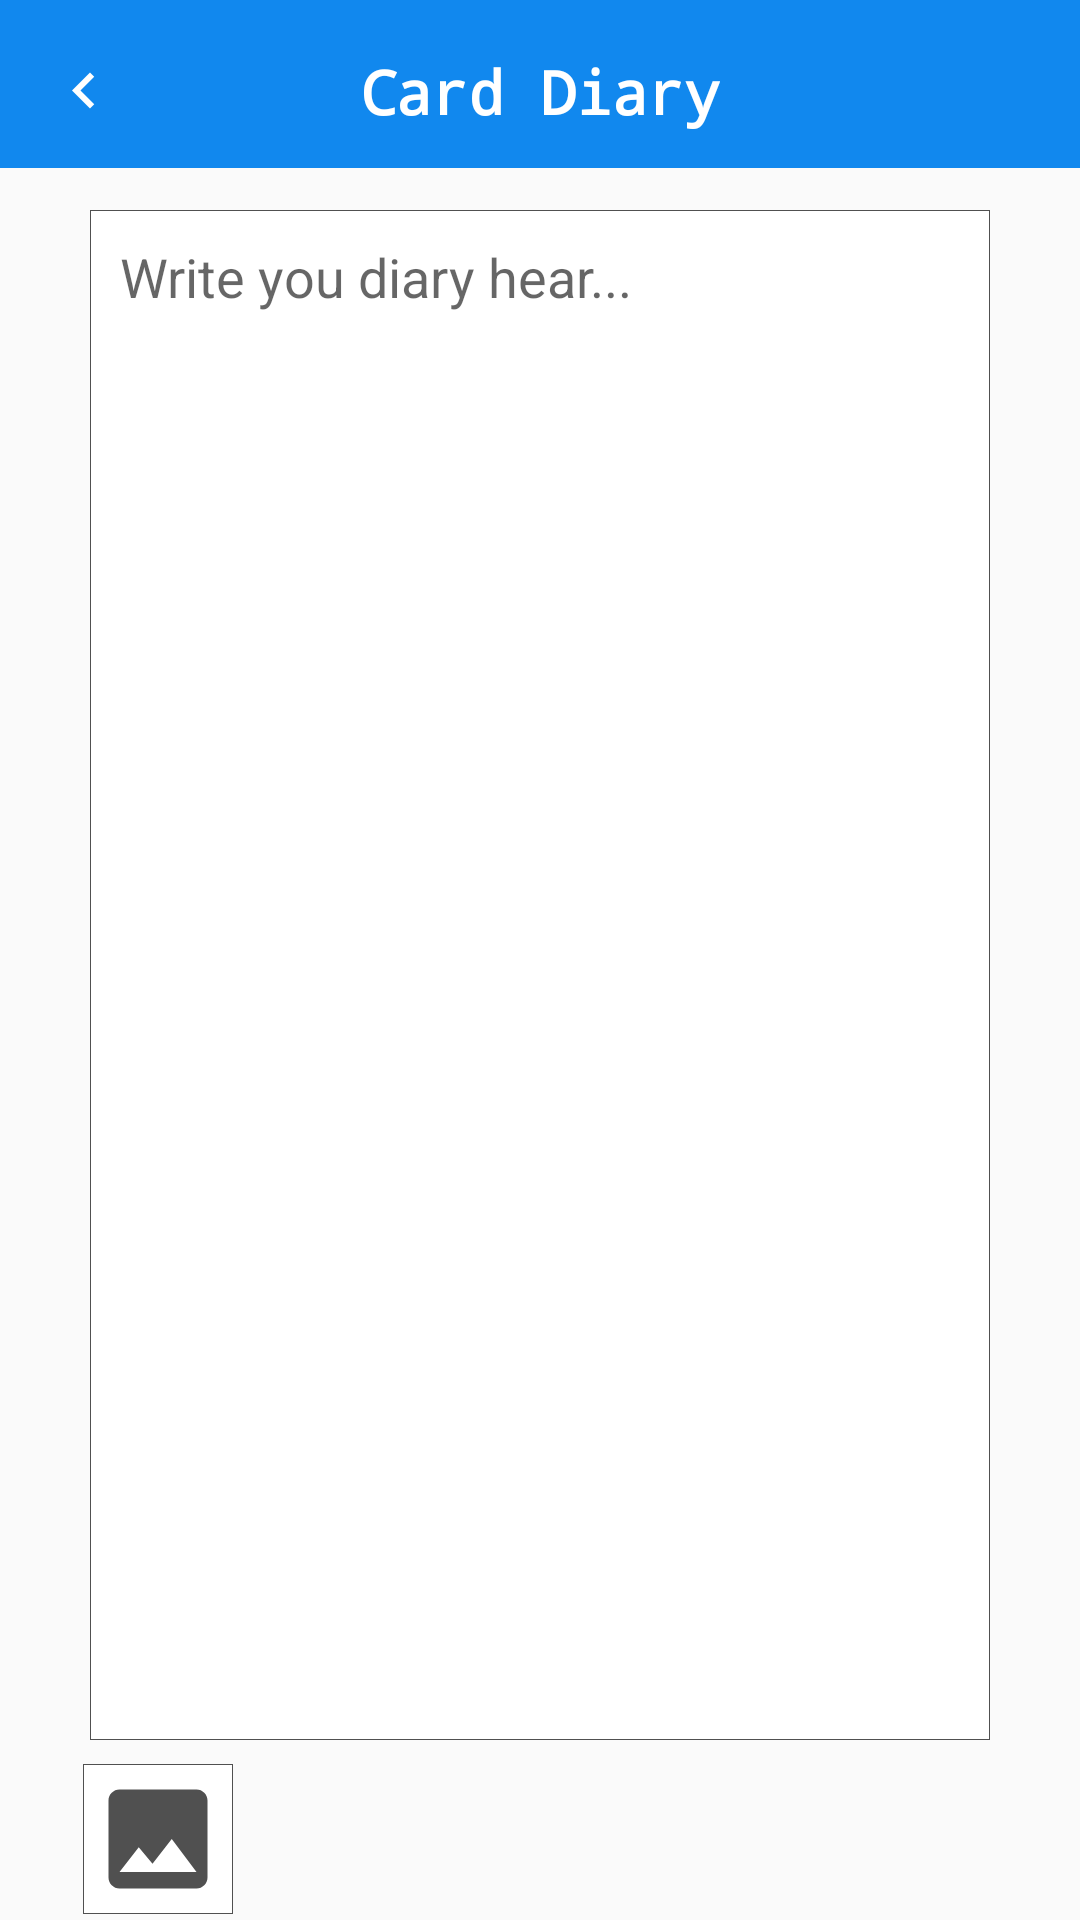

Named icons in this screenshot (1080x1920) and their centers, [x,y]:
add photo: [158,1839]
